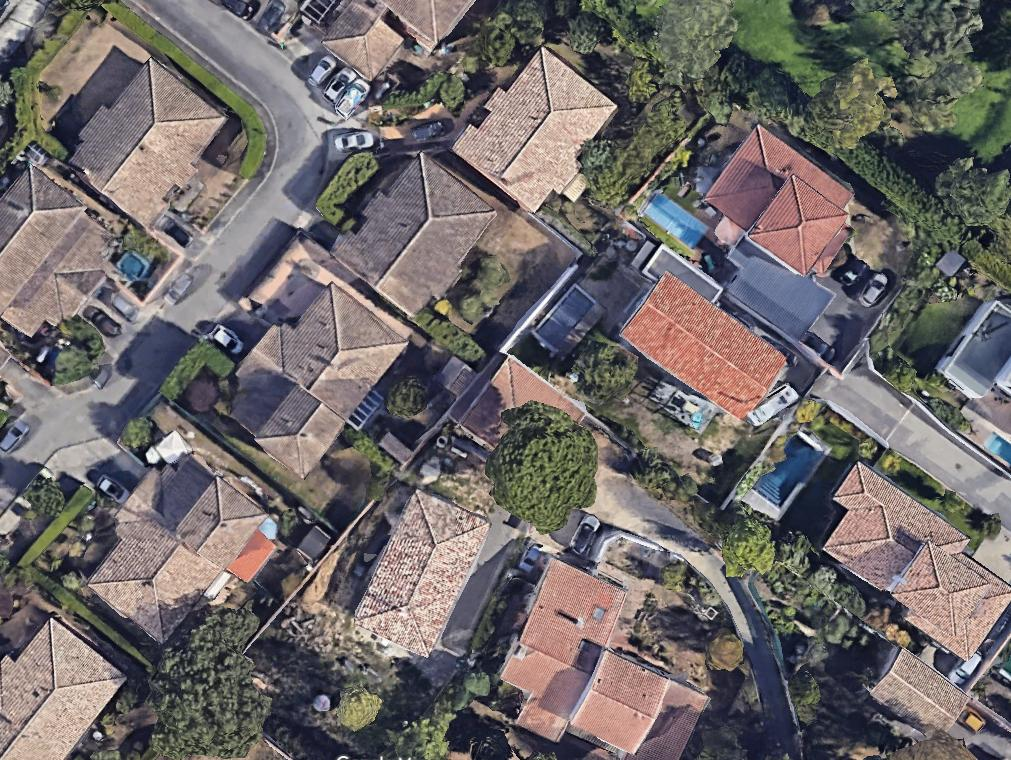maison: (483, 555, 736, 760), (67, 439, 289, 665), (209, 264, 420, 488), (798, 458, 1011, 664), (448, 39, 627, 222), (327, 143, 503, 325), (58, 52, 234, 232), (699, 124, 872, 287), (617, 270, 790, 426), (350, 485, 494, 659), (0, 606, 129, 760), (0, 167, 111, 336), (302, 0, 475, 81)
